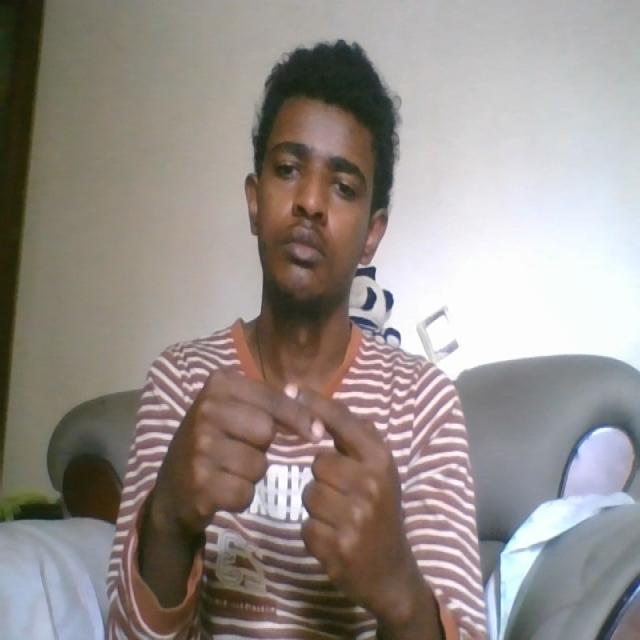eske: (184, 377, 403, 562)
